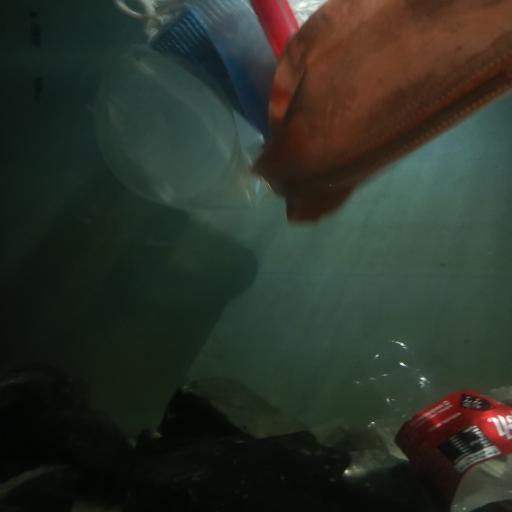mask: (251, 0, 512, 221), (36, 192, 254, 435), (117, 0, 277, 135)
plastic_bottle: (335, 335, 512, 512)
plastic_cup: (96, 44, 263, 214)
plastic_straw: (248, 0, 300, 58)
